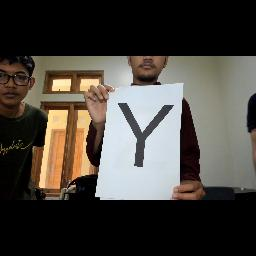y: (118, 102, 176, 168)
